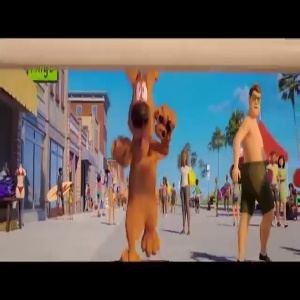Scooby: (108, 65, 184, 149)
